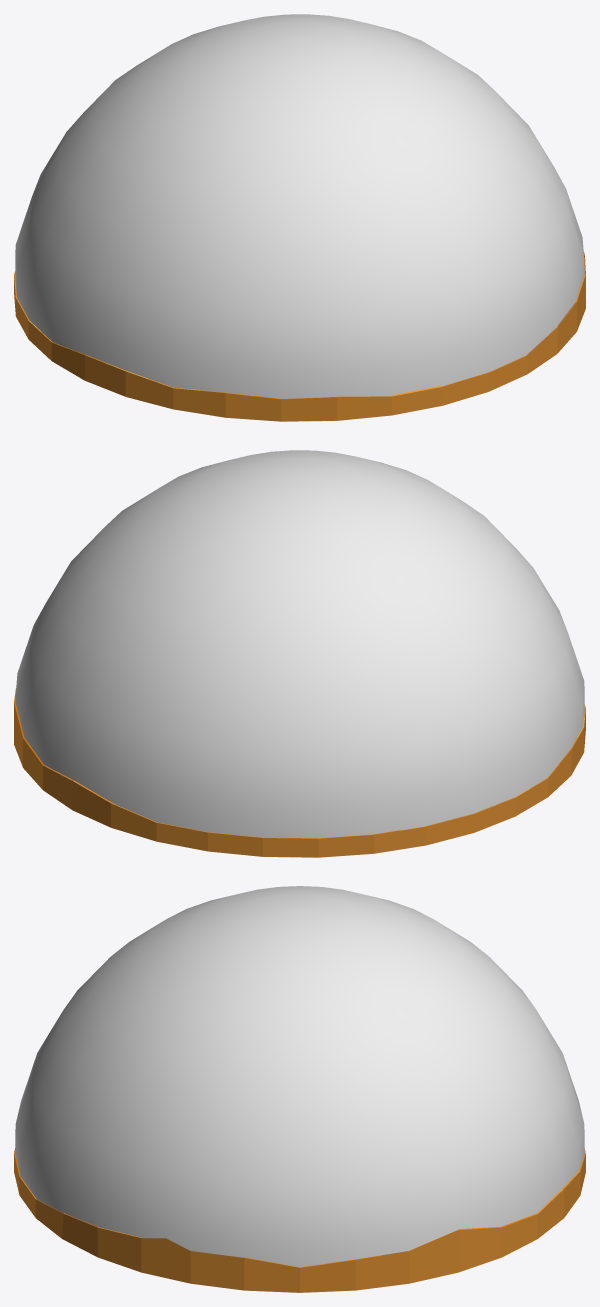
The model's file is voorbeeld_mars_colony.fbx.
3 renders of one model, top to bottom at view 1: azimuth 30°, elevation 25°; view 2: azimuth 150°, elevation 25°; view 3: azimuth 270°, elevation 25°, orthographic.
Parts seen in each view (by area): view 1: Sphere, Cylinder.070; view 2: Sphere, Cylinder.070; view 3: Sphere, Cylinder.070.
Boxes of the visible parts, x1,y1,x2,y2 form: Sphere: (15, 14, 584, 421); Cylinder.070: (14, 252, 585, 421); Sphere: (15, 450, 584, 857); Cylinder.070: (14, 688, 585, 857); Sphere: (15, 886, 584, 1292); Cylinder.070: (14, 1148, 585, 1292).
Bounding box in the file's own units: 5516 × 2762 × 5516.
